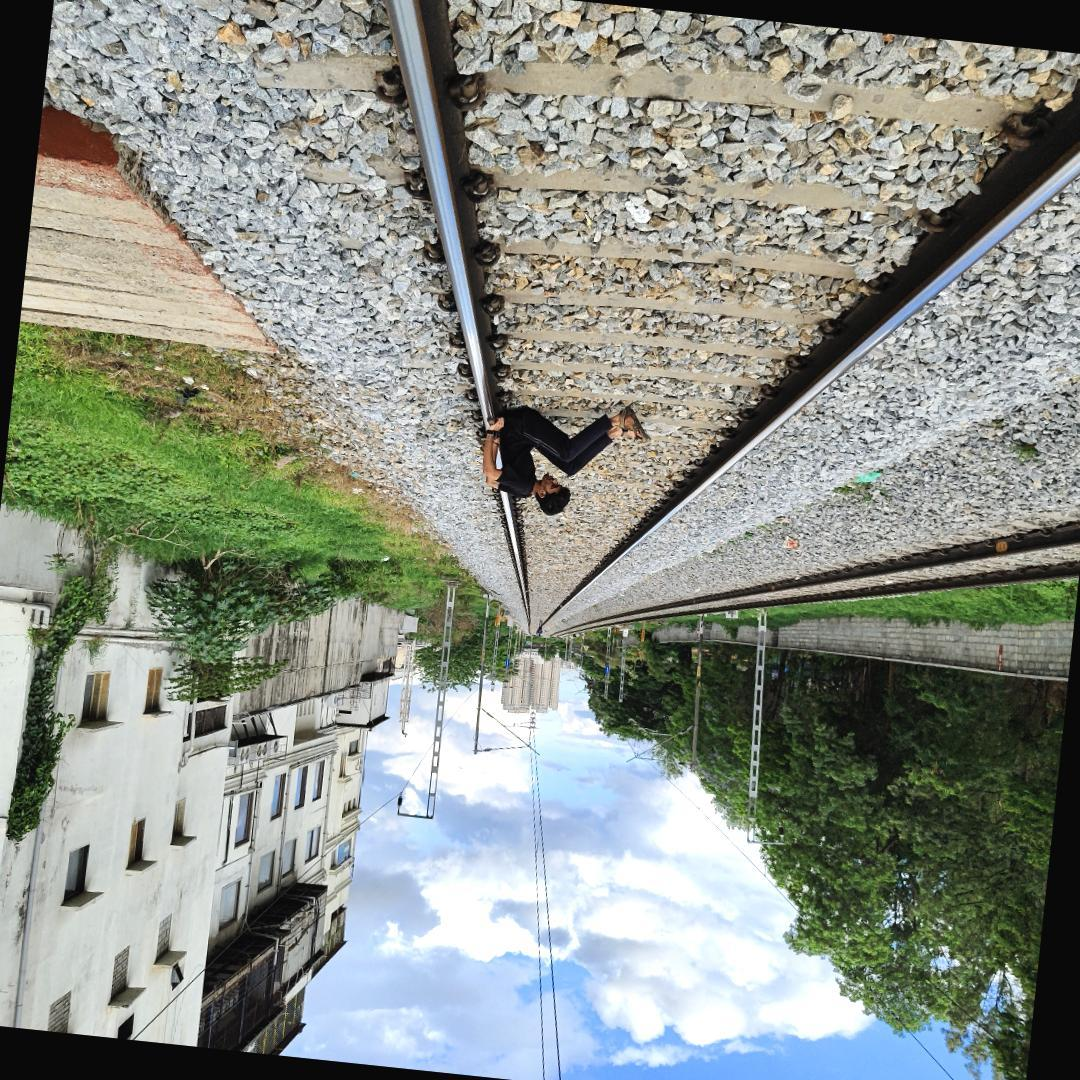sitting: (461, 386, 660, 530)
